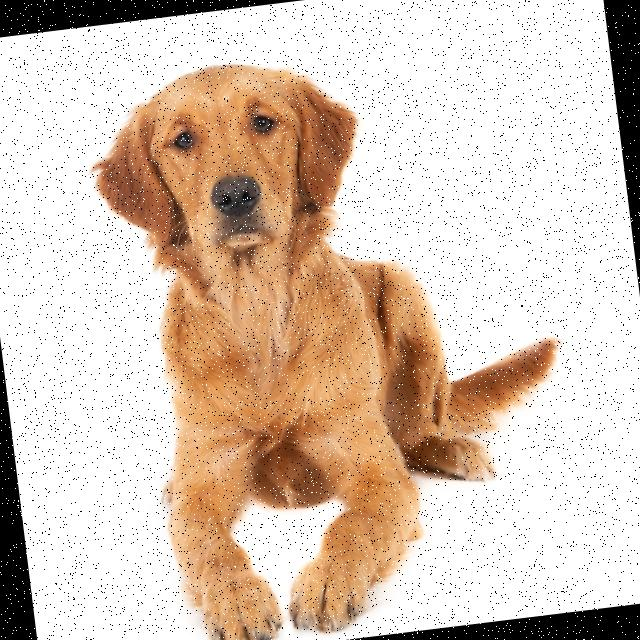Dog: (80, 27, 590, 640)
